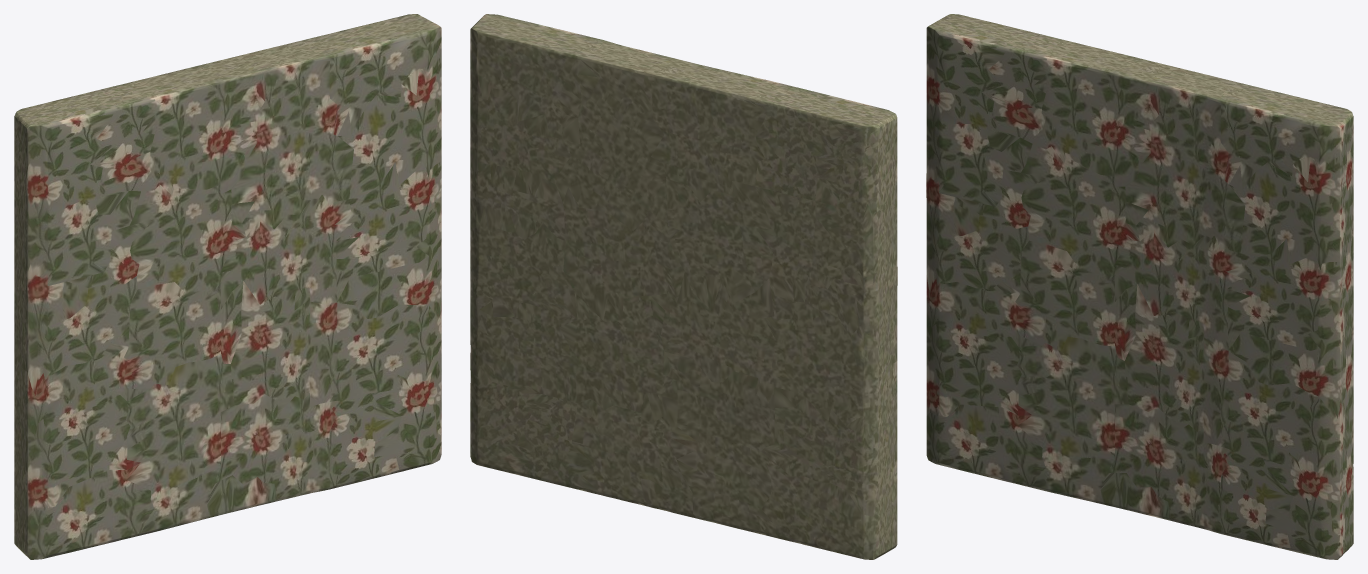
Rendered from finish_wallpaper_ok_b_idle.glb.
3 views of the same model, side by side, from view 1: azimuth 30°, elevation 25°; view 2: azimuth 150°, elevation 25°; view 3: azimuth 330°, elevation 25° (orthographic).
Parts seen in each view (by area): view 1: tripo_node_93142a43-a3c4-4025-a5be-b2fef7998b04; view 2: tripo_node_93142a43-a3c4-4025-a5be-b2fef7998b04; view 3: tripo_node_93142a43-a3c4-4025-a5be-b2fef7998b04.
Part boxes in pixels (box(x1,y1,x2,y2)): tripo_node_93142a43-a3c4-4025-a5be-b2fef7998b04: box(14, 14, 441, 559); tripo_node_93142a43-a3c4-4025-a5be-b2fef7998b04: box(470, 14, 897, 559); tripo_node_93142a43-a3c4-4025-a5be-b2fef7998b04: box(926, 14, 1353, 559).
Bounding box in the file's own units: 1 × 1 × 0.1.
Materials: 1 (1 with a texture image).
